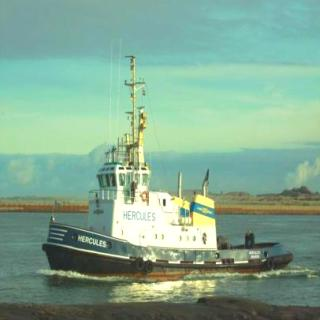Tug Boat: (42, 114, 290, 276)
